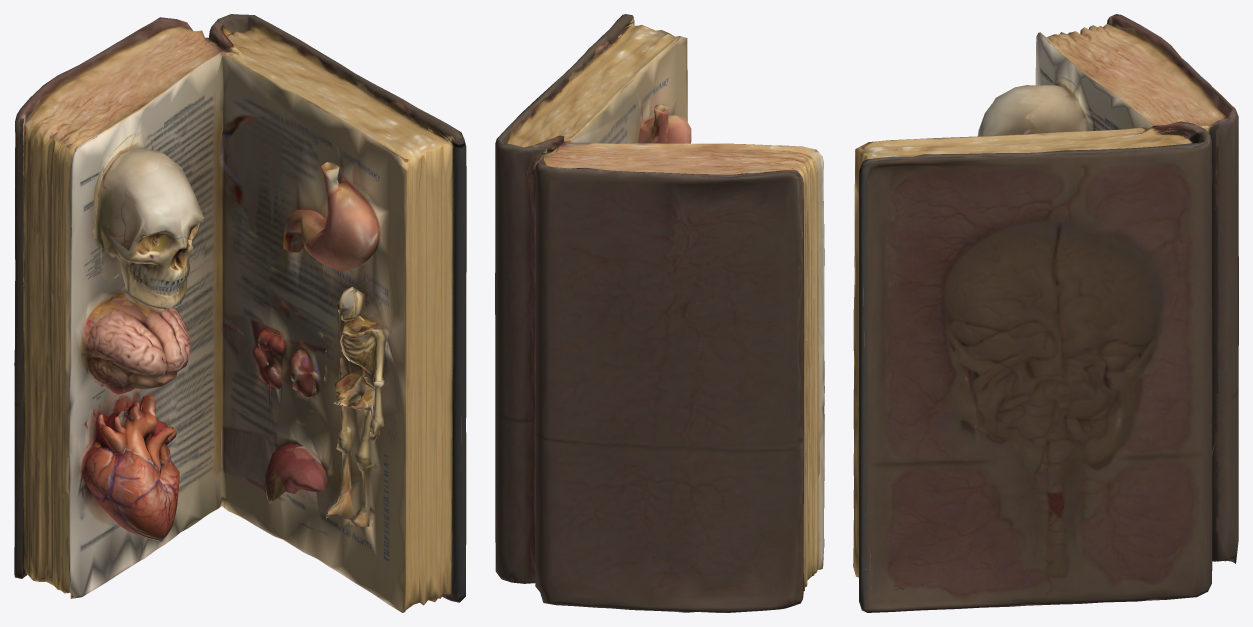
The model's file is book_anatomy.glb.
The picture shows the model from 3 angles, left to right: view 1: azimuth 30°, elevation 25°; view 2: azimuth 150°, elevation 25°; view 3: azimuth 270°, elevation 25°; orthographic projection. The views are drawn at different scales.
Bounding box in the file's own units: 1.43 × 2 × 1.54.
1 material, 1 textured.
